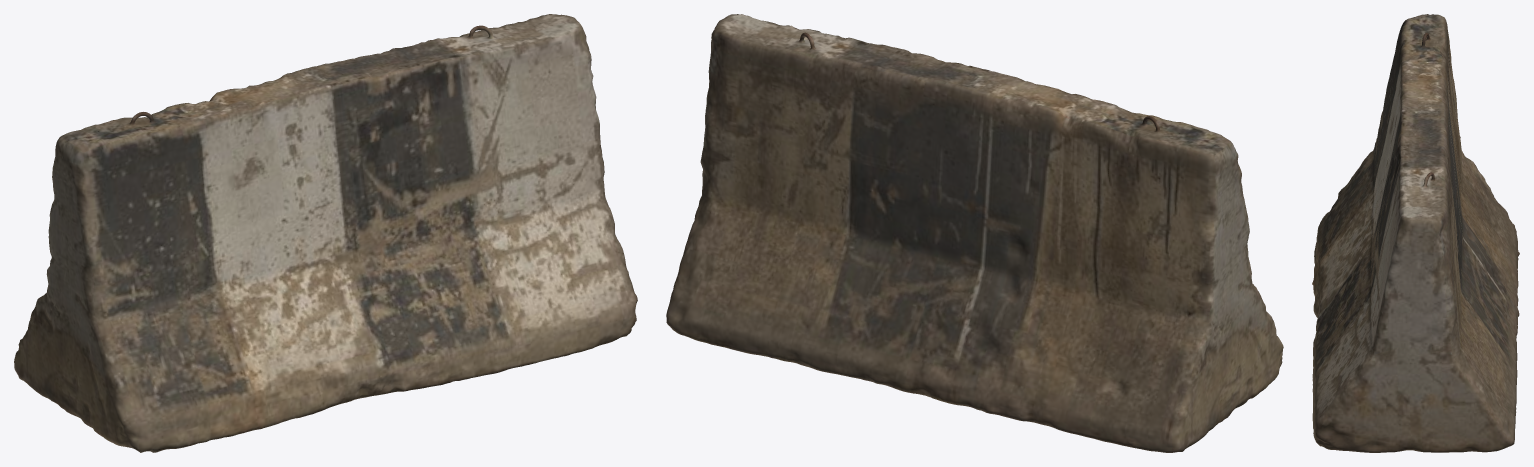
Rendered from concrete_road_barrier_1k.glb.
3 renders of one model, left to right at view 1: azimuth 30°, elevation 25°; view 2: azimuth 150°, elevation 25°; view 3: azimuth 270°, elevation 25°, orthographic. The views are drawn at different scales.
Visible parts, largest first — view 1: concrete_road_barrier; view 2: concrete_road_barrier; view 3: concrete_road_barrier.
Boxes of the visible parts, x1,y1,x2,y2 form: concrete_road_barrier: [14, 14, 637, 452]; concrete_road_barrier: [666, 14, 1283, 452]; concrete_road_barrier: [1312, 14, 1519, 452].
Size of the model in its own units: 1.55 by 0.831 by 0.6387.
Materials: 1 (1 with a texture image).
